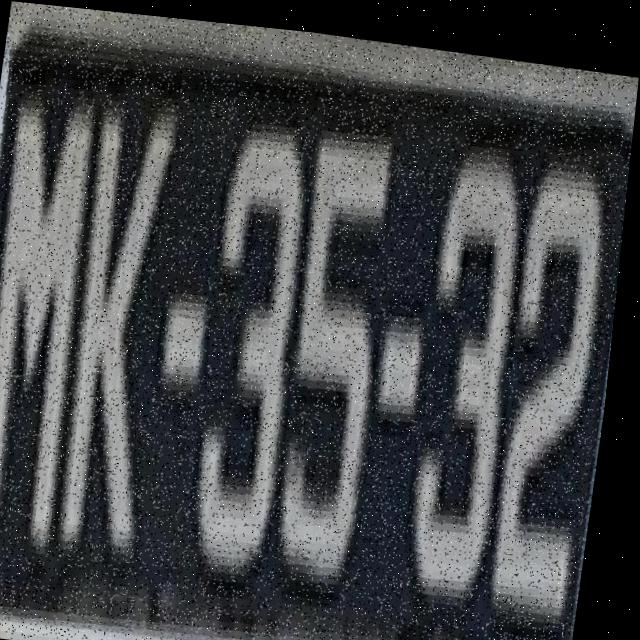LicensePlate: (0, 26, 638, 640)
